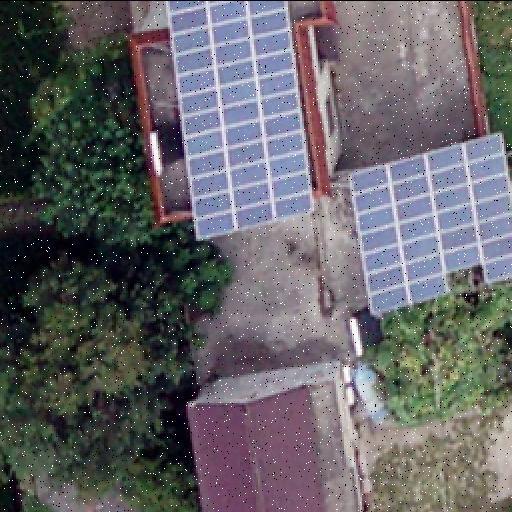solar-panel: (168, 0, 312, 240), (345, 133, 511, 315)
